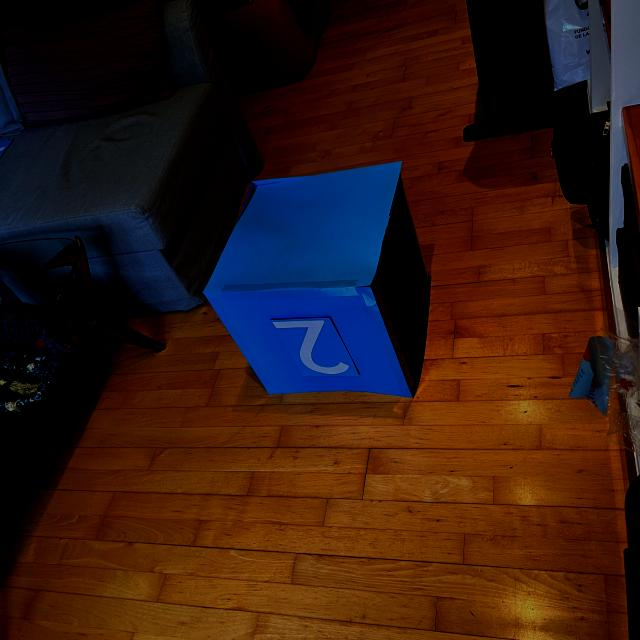box: (200, 158, 434, 402)
